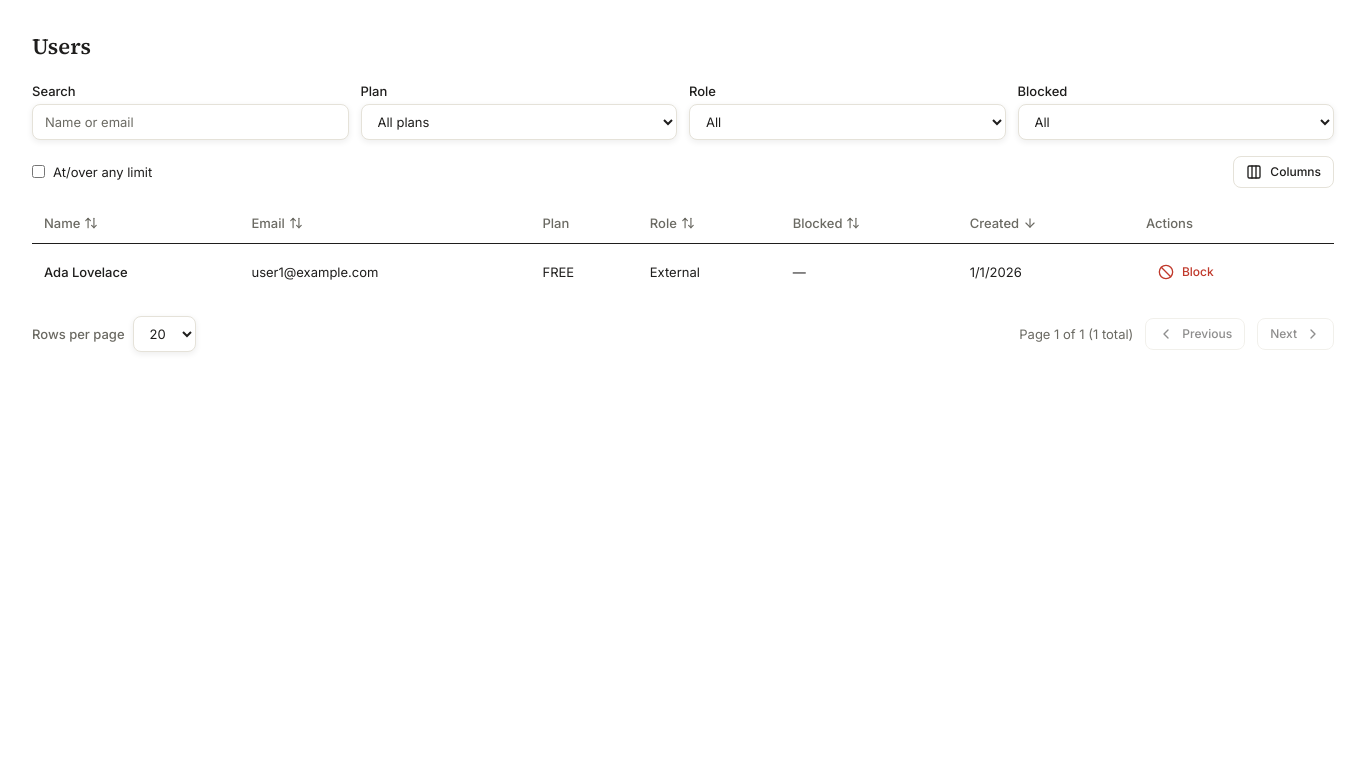
Test: AdminUsersPage › shows an empty state in the audit history tab when no events exist
What coordinates should you click on to do the following:
click the text "Ada Lovelace"
I would click on:
 (86, 272)
Its box is [32,244,240,300].
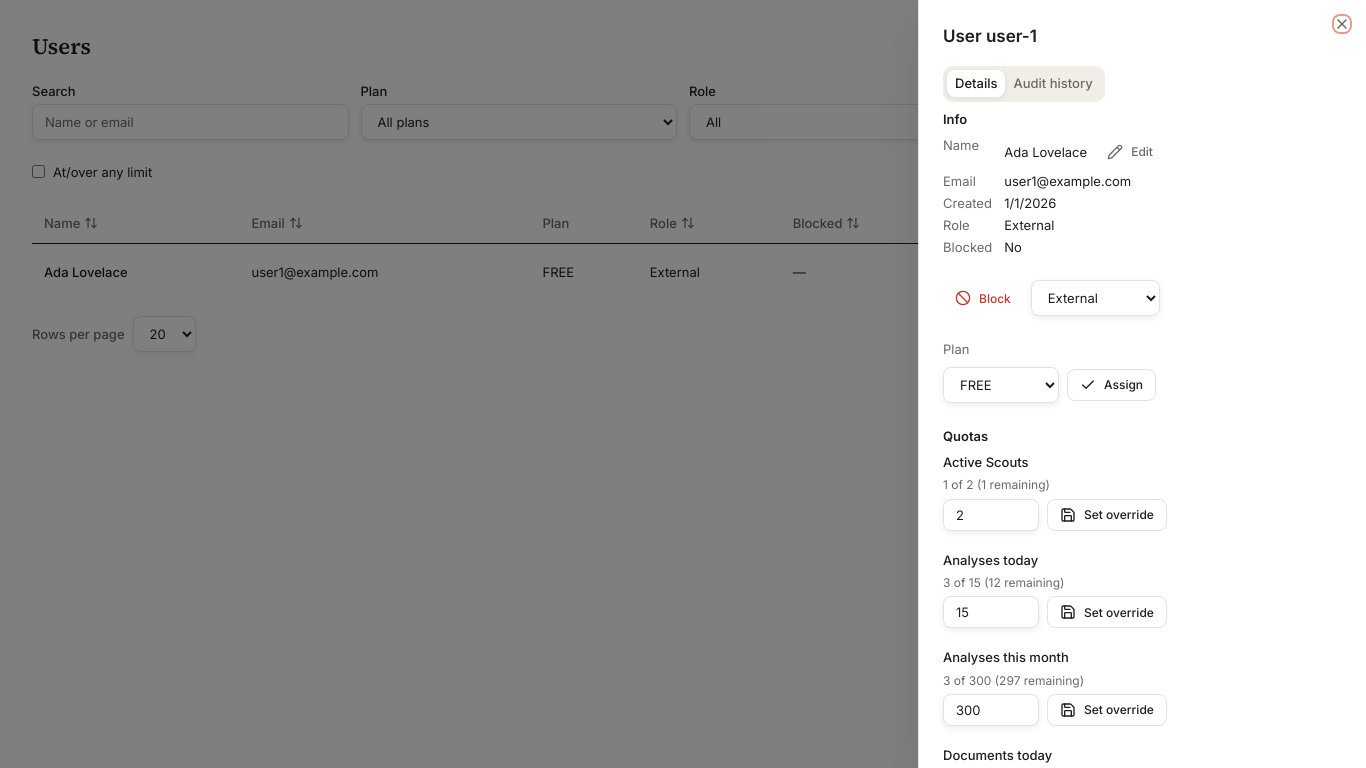
What coordinates should you click on to do the following:
click the tab "Audit history"
I would click on:
 (1053, 84)
Its box is [1006,70,1101,97].
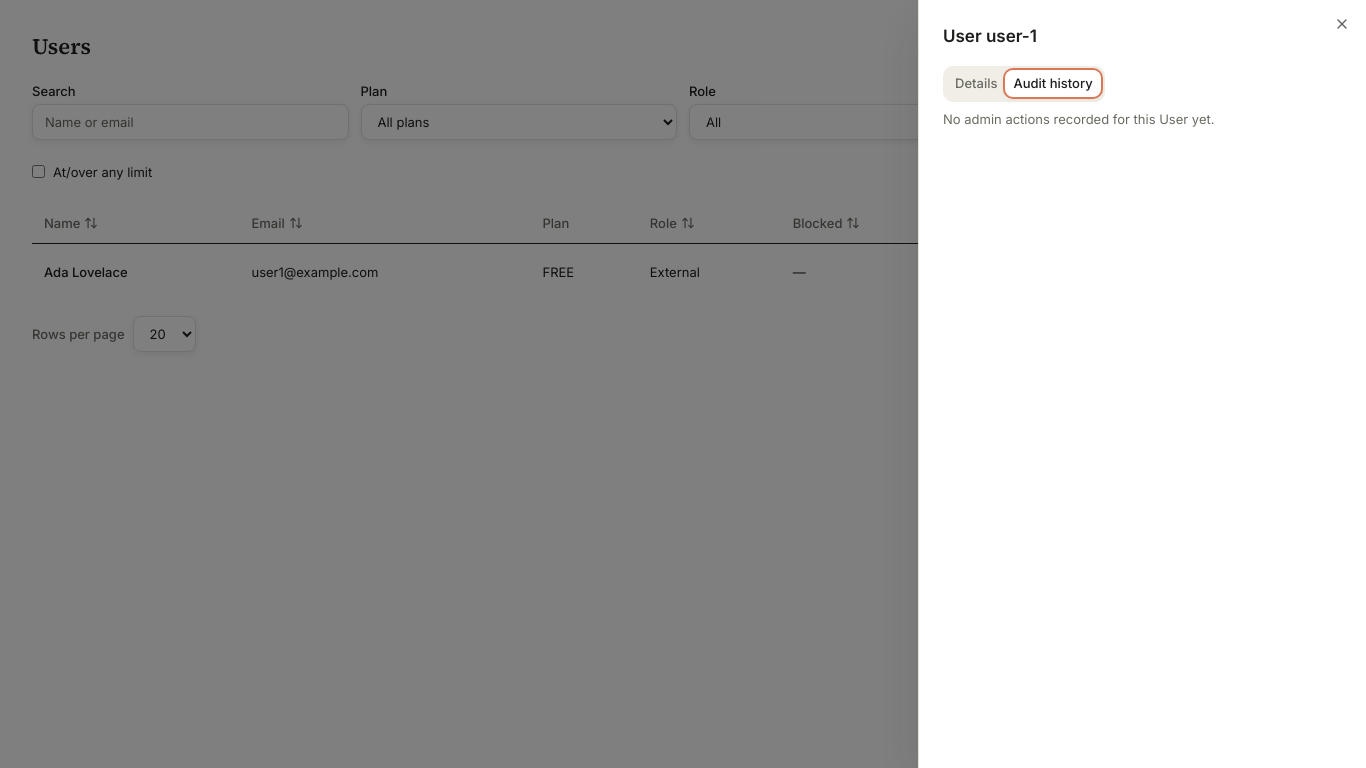
Check: the text "No admin actions recorded for this User yet." is shown, box [943,110,1214,126]
